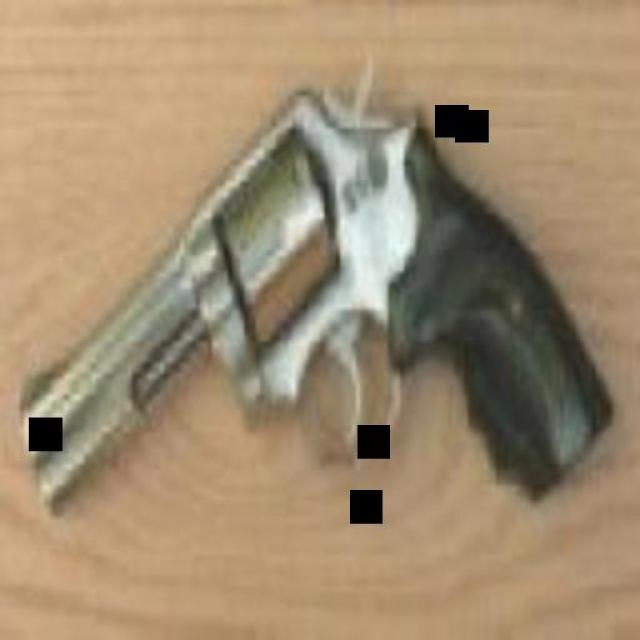gun: (26, 68, 606, 500)
